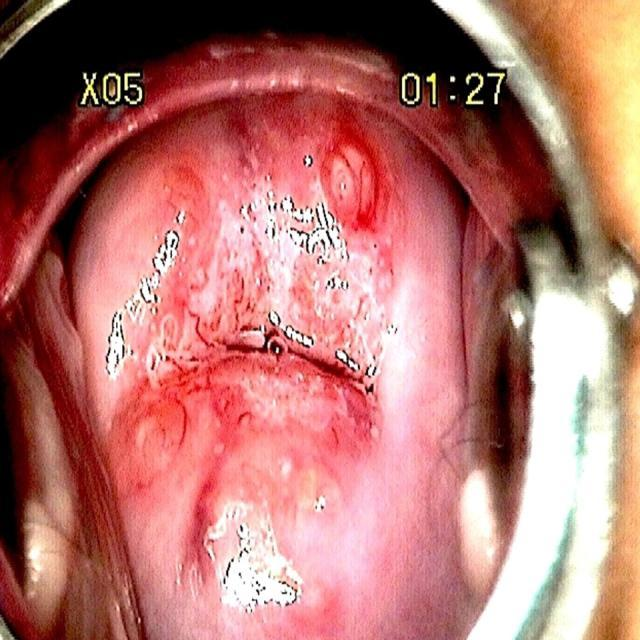cervical_lesion: (96, 178, 389, 613)
